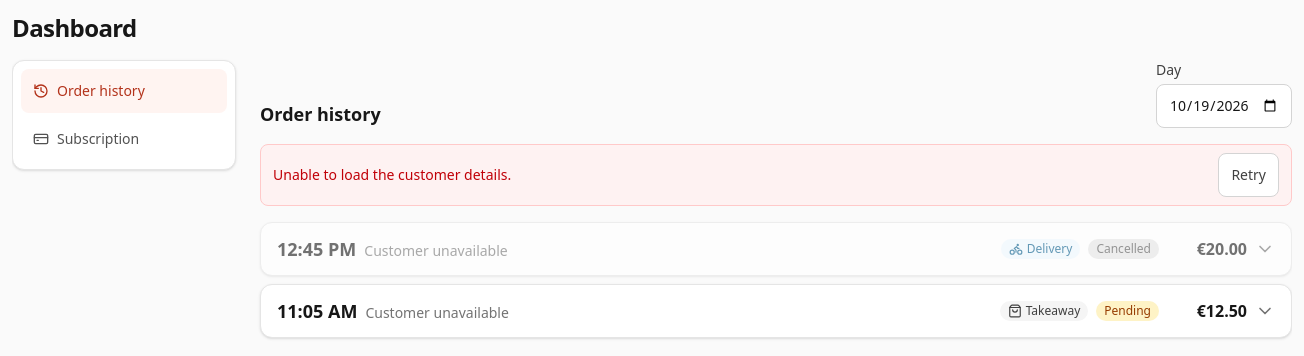
Scenario: Dashboard page › shows an error with Retry when the customers fail to load
expect the text "Customer unavailable" is shown 2 times: met, box [364,241,508,261]; [365,303,509,323]
expect the message shows "Unable to load the customer details.": met, box [273,165,511,184]
Click the button "Retry". click: [1249, 175]
box: [1218,153,1279,197]
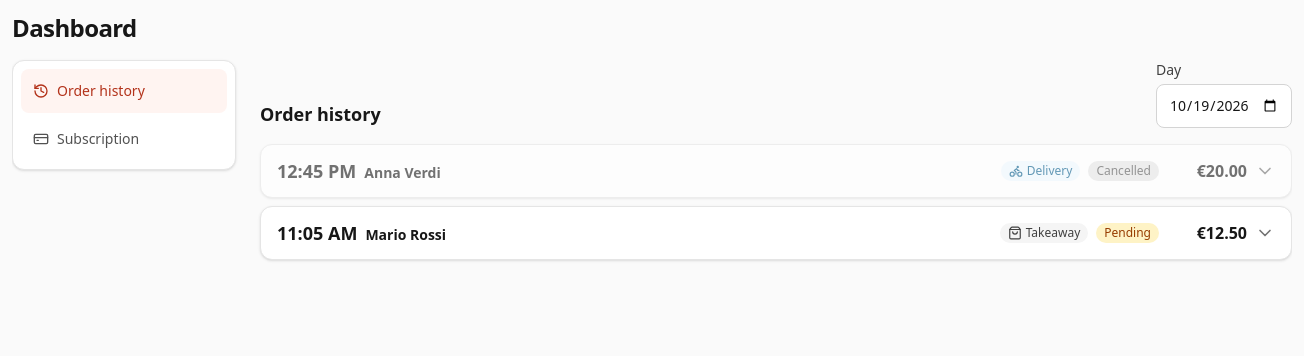
expect the message "Unable to load the customer details. Retry" is gone: met
expect the button "Customer unavailable" is gone: met
